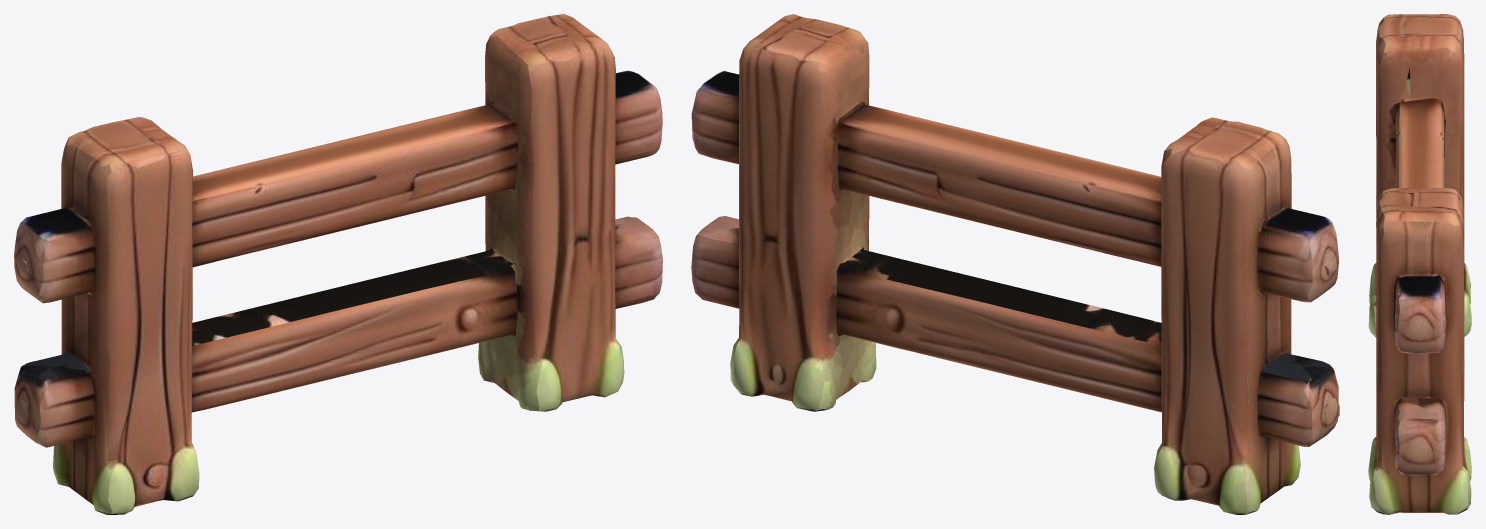
Rendered from fence.glb.
3 views of the same model, side by side, from view 1: azimuth 30°, elevation 25°; view 2: azimuth 150°, elevation 25°; view 3: azimuth 270°, elevation 25° (orthographic). The views are drawn at different scales.
Visible parts, largest first — view 1: fence_s11; view 2: fence_s11; view 3: fence_s11.
Part boxes in pixels (x1,y1,x2,y2): fence_s11: (14,14,662,514); fence_s11: (691,14,1339,514); fence_s11: (1368,14,1471,514).
Bounding box in the file's own units: 1 × 0.5285 × 0.1682.
Materials: 1 (1 with a texture image).
